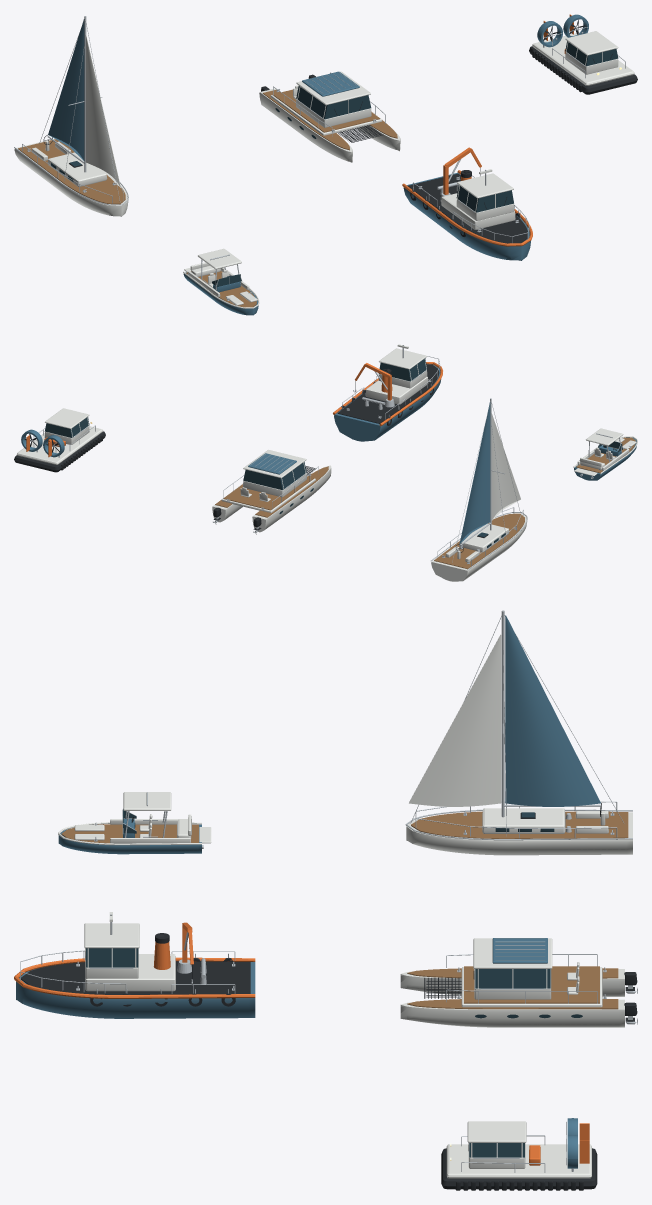
Rendered from transport-collection-hd-sea-collection-2-3b256df0__18754.glb.
The picture shows the model from 3 angles, top to bottom: view 1: azimuth 30°, elevation 25°; view 2: azimuth 150°, elevation 25°; view 3: azimuth 270°, elevation 25°; orthographic projection. The views are drawn at different scales.
Visible parts, largest first — view 1: 000-sailing-cruiser/0, 001-power-catamaran/0, 000-sailing-cruiser/5, 002-coastal-hovercraft/1, 004-crane-work-tug/3, 004-crane-work-tug/1, 004-crane-work-tug/0, 003-hardtop-runabout/2, 000-sailing-cruiser/1, 001-power-catamaran/1, 000-sailing-cruiser/2, 001-power-catamaran/2 (+10 smaller); view 2: 000-sailing-cruiser/0, 001-power-catamaran/0, 000-sailing-cruiser/5, 002-coastal-hovercraft/1, 004-crane-work-tug/3, 004-crane-work-tug/0, 004-crane-work-tug/1, 003-hardtop-runabout/2, 001-power-catamaran/1, 000-sailing-cruiser/1, 000-sailing-cruiser/2, 001-power-catamaran/2 (+10 smaller); view 3: 000-sailing-cruiser/0, 000-sailing-cruiser/5, 001-power-catamaran/0, 002-coastal-hovercraft/1, 004-crane-work-tug/0, 004-crane-work-tug/1, 004-crane-work-tug/3, 001-power-catamaran/1, 003-hardtop-runabout/2, 000-sailing-cruiser/1, 000-sailing-cruiser/2, 002-coastal-hovercraft/0 (+10 smaller).
Part boxes in pixels (bbox=[...]): 000-sailing-cruiser/0: bbox=[14, 35, 128, 216]; 001-power-catamaran/0: bbox=[259, 71, 400, 162]; 000-sailing-cruiser/5: bbox=[48, 19, 84, 160]; 002-coastal-hovercraft/1: bbox=[532, 31, 634, 85]; 004-crane-work-tug/3: bbox=[441, 169, 515, 229]; 004-crane-work-tug/1: bbox=[408, 168, 527, 243]; 004-crane-work-tug/0: bbox=[403, 172, 530, 260]; 003-hardtop-runabout/2: bbox=[183, 248, 259, 308]; 000-sailing-cruiser/1: bbox=[18, 139, 125, 204]; 001-power-catamaran/1: bbox=[262, 89, 397, 150]; 000-sailing-cruiser/2: bbox=[14, 16, 128, 205]; 001-power-catamaran/2: bbox=[275, 86, 371, 138]; 000-sailing-cruiser/0: bbox=[431, 413, 526, 581]; 001-power-catamaran/0: bbox=[212, 450, 331, 532]; 000-sailing-cruiser/5: bbox=[459, 402, 490, 543]; 002-coastal-hovercraft/1: bbox=[17, 408, 103, 464]; 004-crane-work-tug/3: bbox=[365, 344, 428, 404]; 004-crane-work-tug/0: bbox=[334, 364, 441, 441]; 004-crane-work-tug/1: bbox=[337, 364, 439, 425]; 003-hardtop-runabout/2: bbox=[573, 428, 637, 476]; 001-power-catamaran/1: bbox=[215, 466, 328, 517]; 000-sailing-cruiser/1: bbox=[434, 513, 524, 568]; 000-sailing-cruiser/2: bbox=[431, 398, 527, 569]; 001-power-catamaran/2: bbox=[243, 462, 313, 513]; 000-sailing-cruiser/0: bbox=[406, 634, 632, 855]; 000-sailing-cruiser/5: bbox=[505, 615, 600, 806]; 001-power-catamaran/0: bbox=[400, 938, 624, 1027]; 002-coastal-hovercraft/1: bbox=[446, 1121, 591, 1178]; 004-crane-work-tug/0: bbox=[16, 962, 255, 1018]; 004-crane-work-tug/1: bbox=[21, 933, 250, 1006]; 004-crane-work-tug/3: bbox=[84, 912, 175, 991]; 001-power-catamaran/1: bbox=[407, 966, 618, 1009]; 003-hardtop-runabout/2: bbox=[58, 792, 211, 845]; 000-sailing-cruiser/1: bbox=[411, 811, 628, 838]; 000-sailing-cruiser/2: bbox=[405, 610, 632, 840]; 002-coastal-hovercraft/0: bbox=[441, 1145, 597, 1190].
Bounding box in the file's own units: 39.62 × 12.3 × 29.2.
